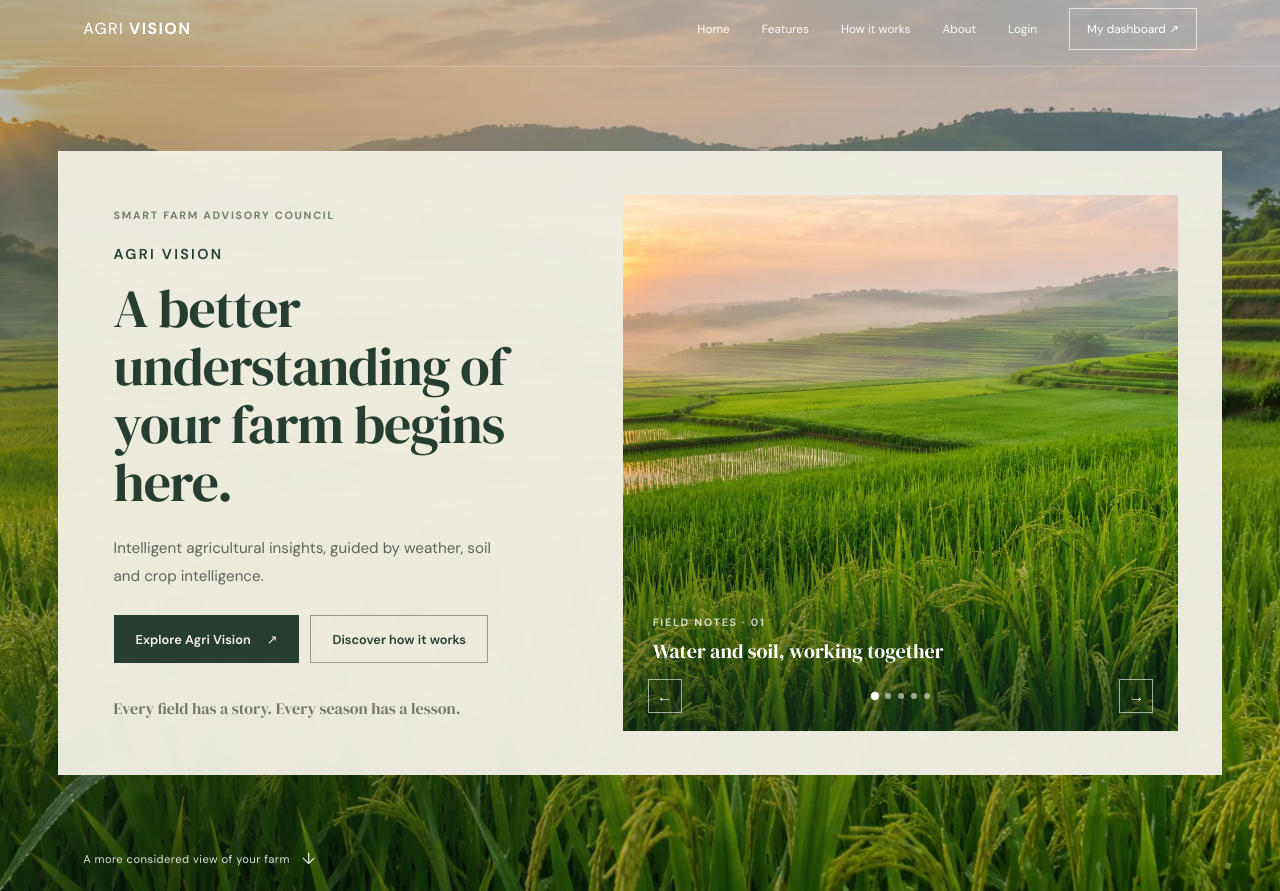
landing navigation › sends a signed-in farmer to their real workspace
This screenshot has width=1280, height=891.
Click the link "Explore Agri Vision ↗".
click(206, 639)  # box [114,615,299,663]
(page scrolled)
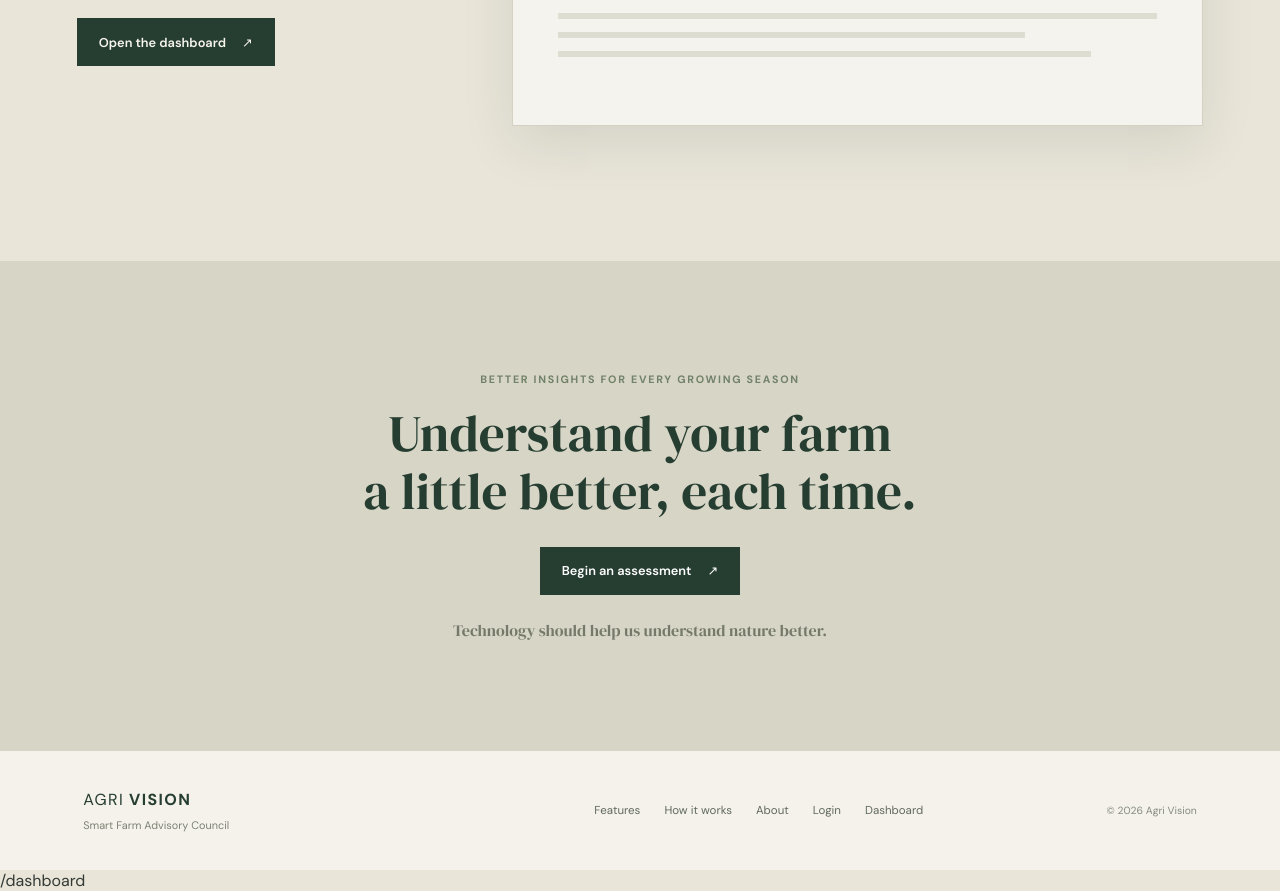
Check: the text with test id "path" reads "/dashboard", box [0,870,85,890]
Click the link "Begin an assessment ↗".
click(640, 571)  # box [540,547,740,595]
(page scrolled)
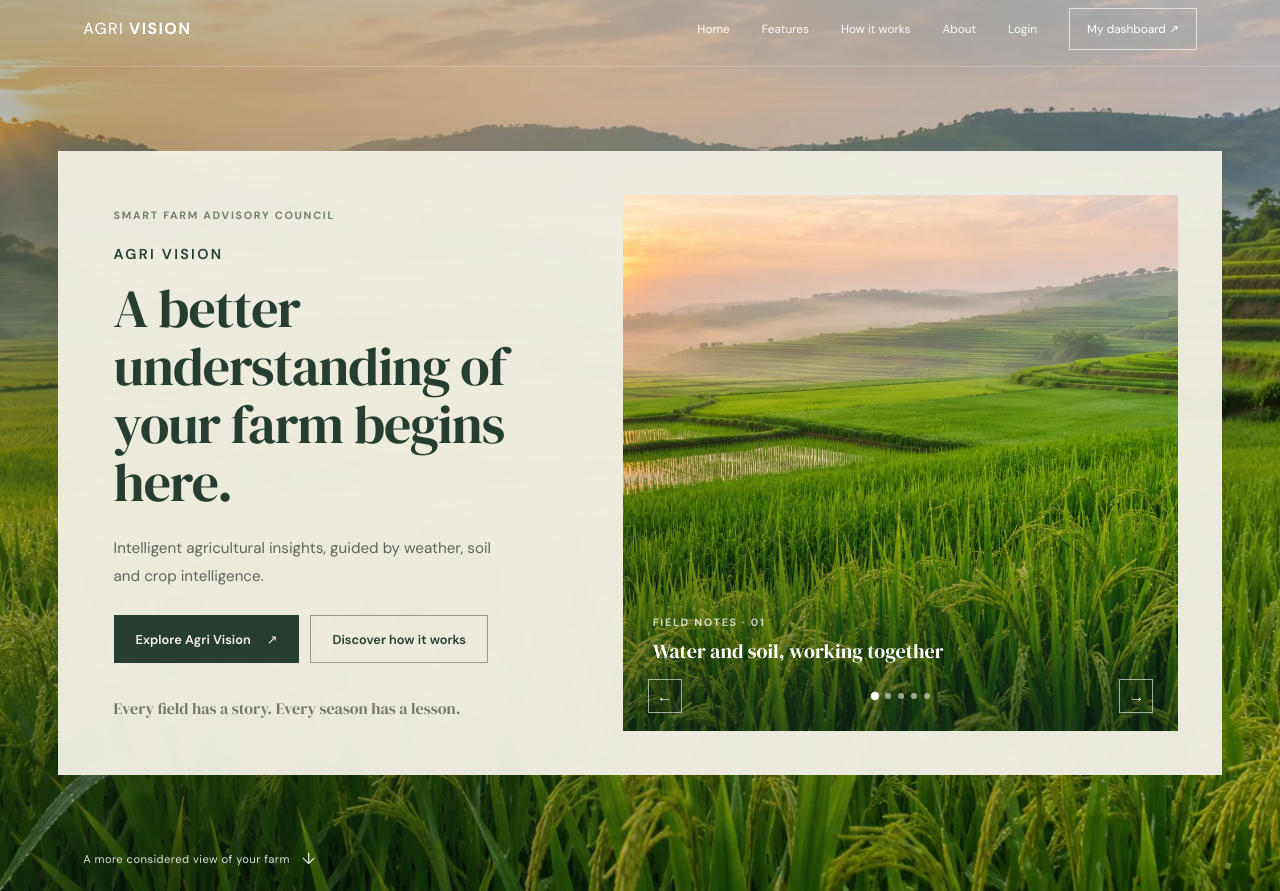
Click the link "My dashboard ↗".
click(1133, 28)  # box [1069,8,1197,50]
(page scrolled)
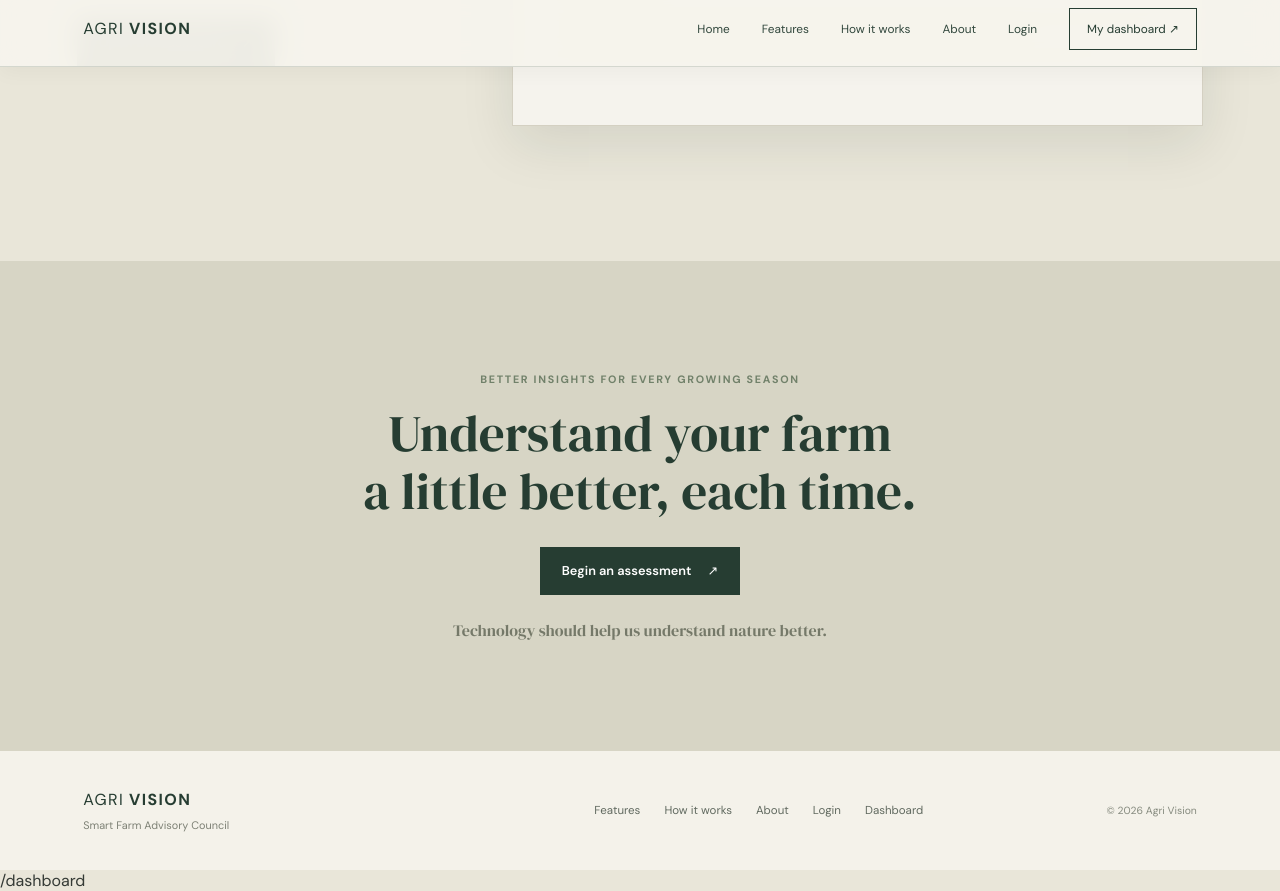
Check: the text with test id "path" reads "/dashboard", box [0,870,85,890]
